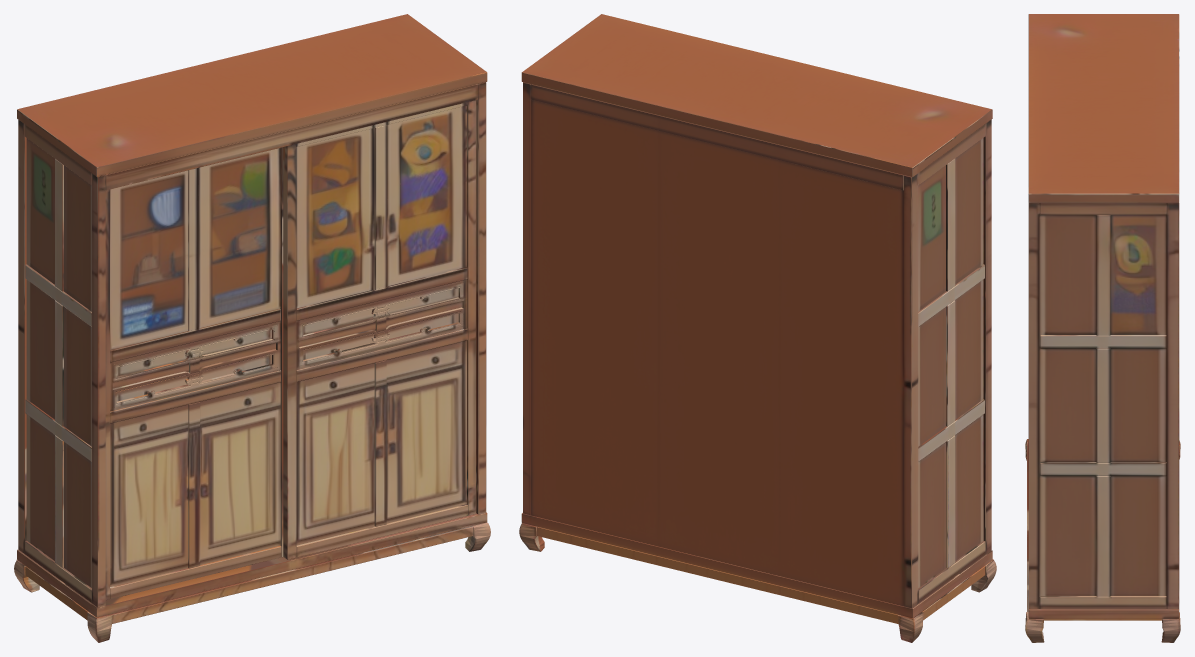
File: edited_mesh.glb
3 renders of one model, left to right at view 1: azimuth 30°, elevation 25°; view 2: azimuth 150°, elevation 25°; view 3: azimuth 270°, elevation 25°, orthographic. The views are drawn at different scales.
Parts seen in each view (by area): view 1: normalized_model.obj; view 2: normalized_model.obj; view 3: normalized_model.obj.
Part boxes in pixels (<box>): normalized_model.obj: <box>14,14,490,642</box>; normalized_model.obj: <box>519,14,996,642</box>; normalized_model.obj: <box>1025,14,1180,642</box>.
Size of the model in its own units: 1.21 by 1.4 by 0.4358.
1 material, 1 textured.
